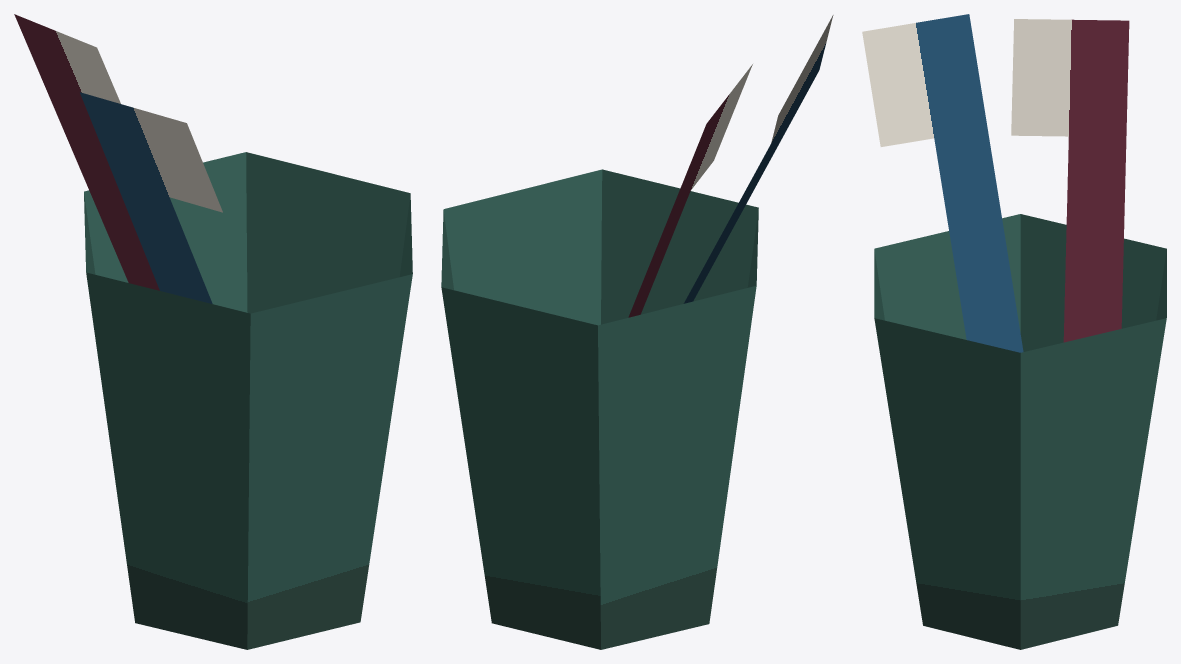
The model's file is Toothbrushes.fbx.
3 views of the same model, side by side, from view 1: azimuth 30°, elevation 25°; view 2: azimuth 150°, elevation 25°; view 3: azimuth 270°, elevation 25° (orthographic). The views are drawn at different scales.
Visible parts, largest first — view 1: cylinder.001, plane, plane_1; view 2: cylinder.001, plane_1, plane; view 3: cylinder.001, plane_1, plane.
Part boxes in pixels (x1,y1,x2,y2): cylinder.001: [84, 152, 412, 649]; plane: [80, 92, 222, 303]; plane_1: [14, 14, 159, 290]; cylinder.001: [441, 169, 758, 649]; plane_1: [628, 64, 752, 317]; plane: [683, 15, 833, 303]; cylinder.001: [874, 214, 1166, 649]; plane_1: [1011, 19, 1129, 342]; plane: [862, 14, 1023, 352].
Bounding box in the file's own units: 13.51 × 21.08 × 11.28.
